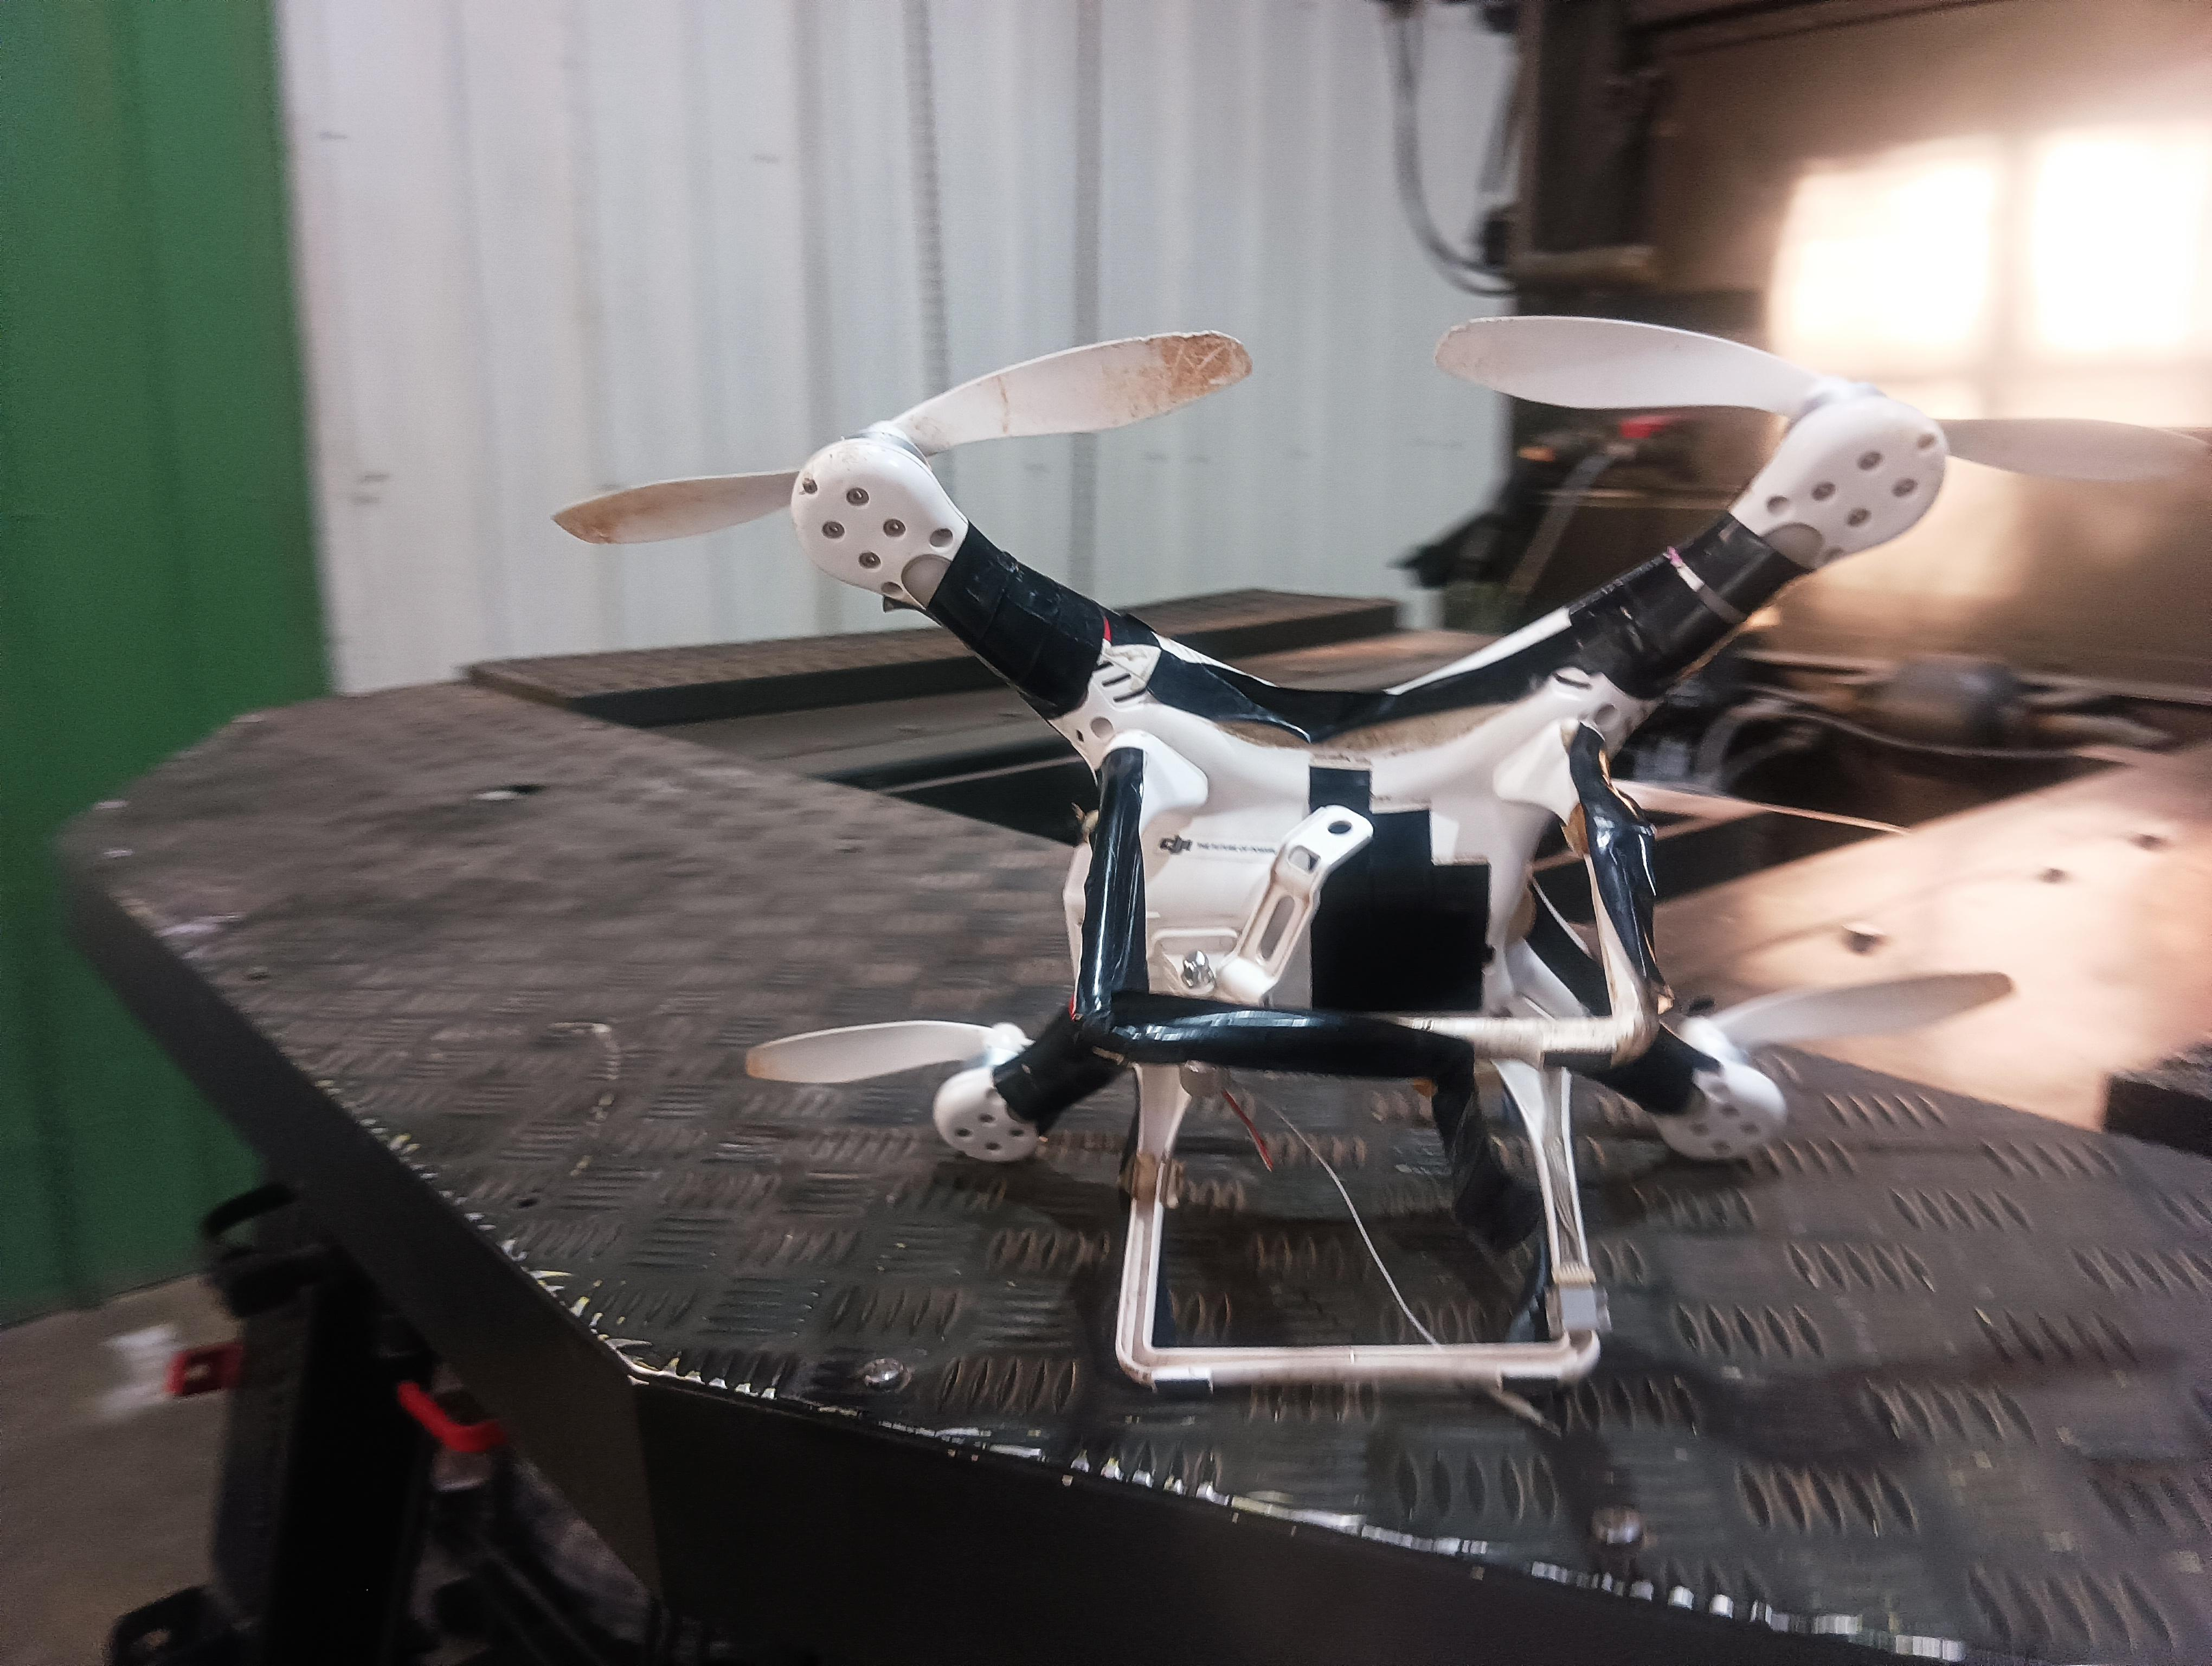drone: (472, 299, 2210, 1446)
